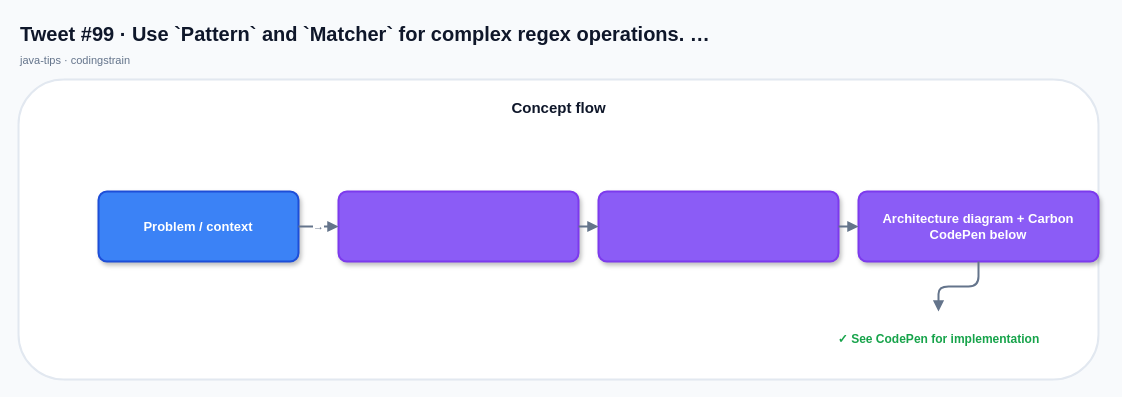
The diagram is 1122 pixels wide and 397 high, and some of its shapes have lost their labels. Each missing label, with the centre of its shape:
Runnable sample: `java-tips`: (x=719, y=227)
💡 Use `Pattern` and `Matcher` for complex regex operations. #Java #Reg: (x=459, y=227)
